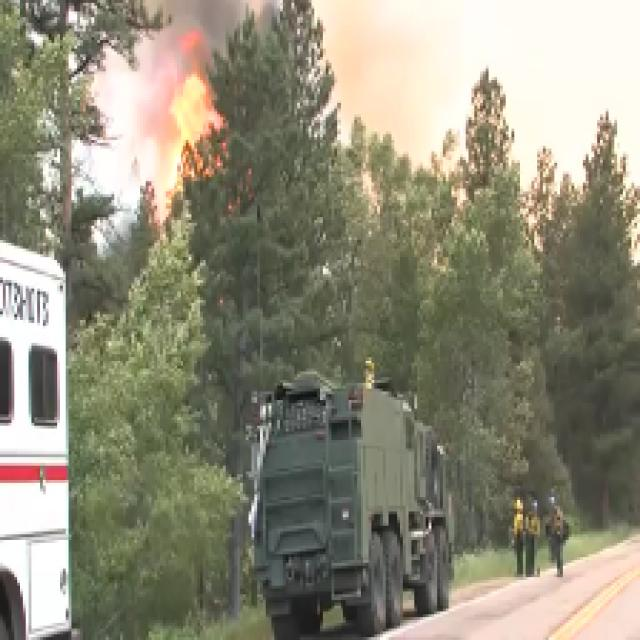fire: (169, 80, 214, 146)
